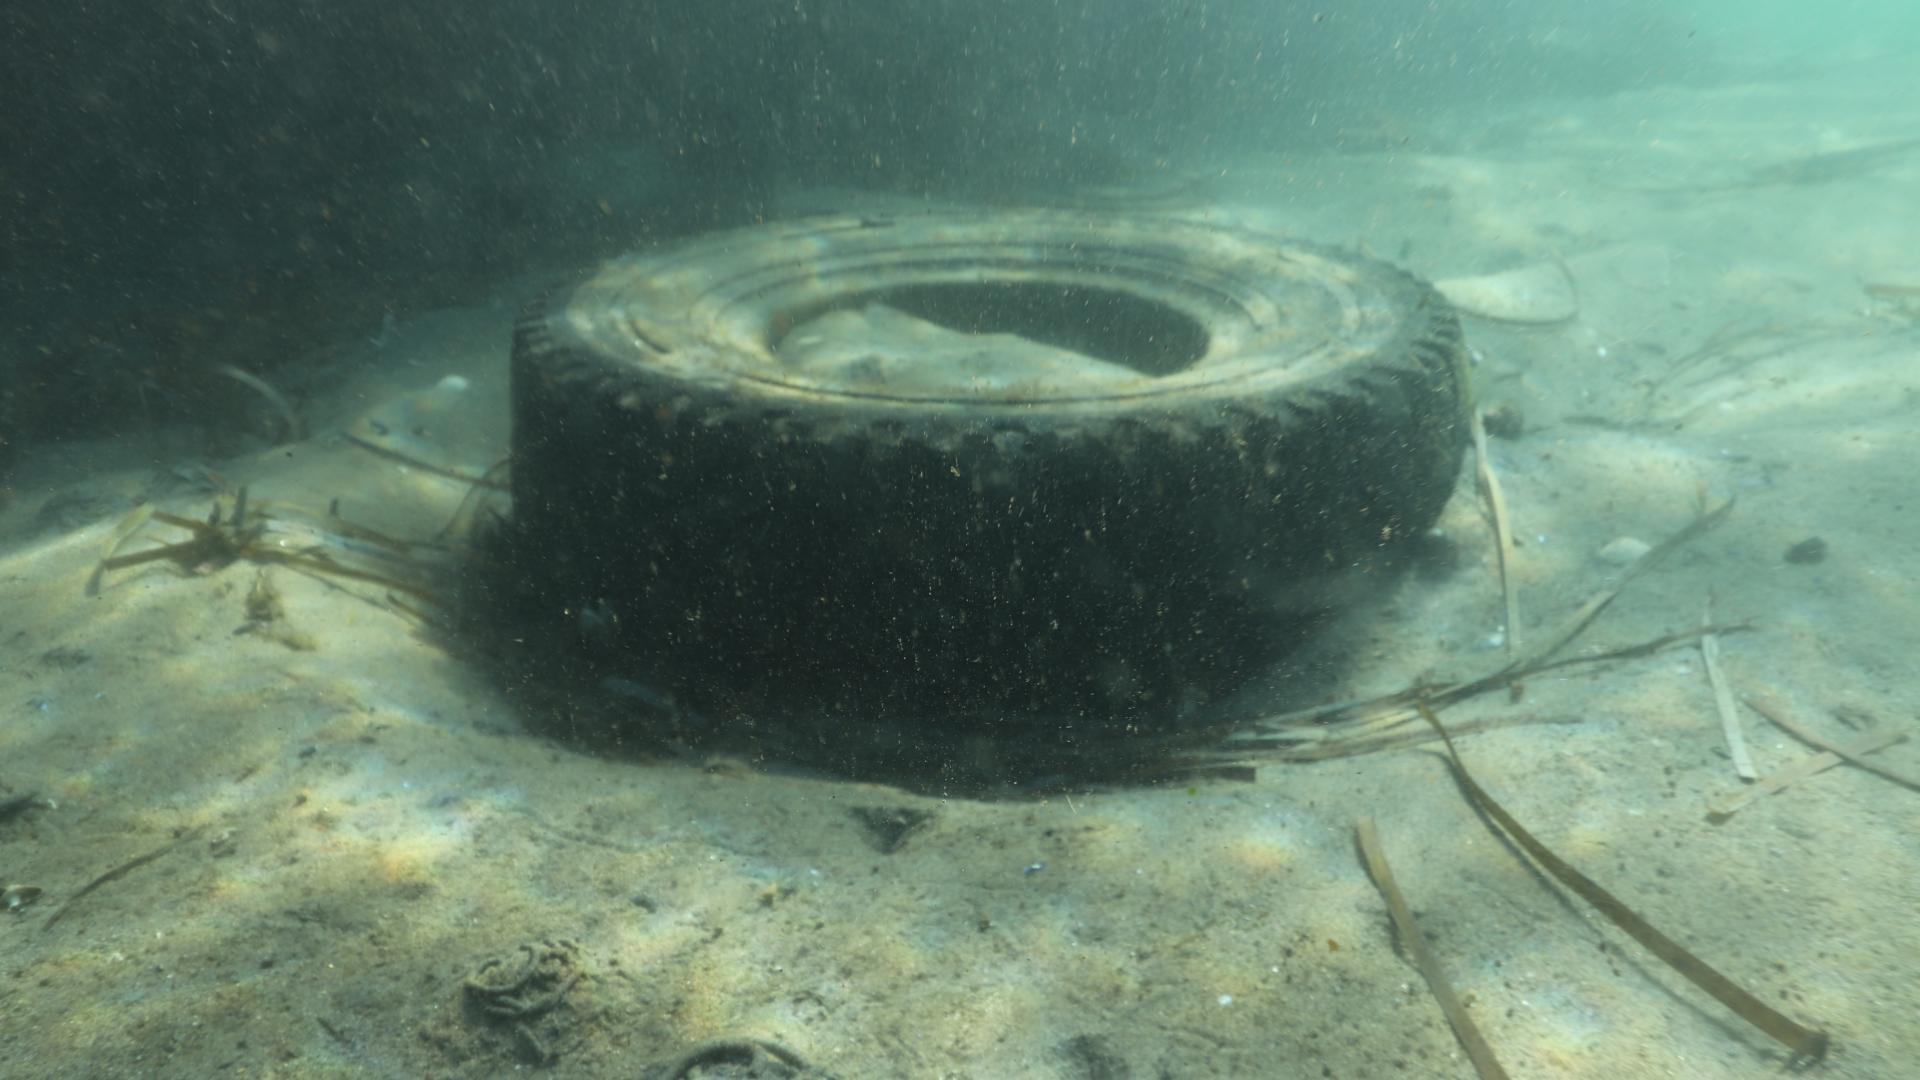tire: (505, 200, 1478, 723)
